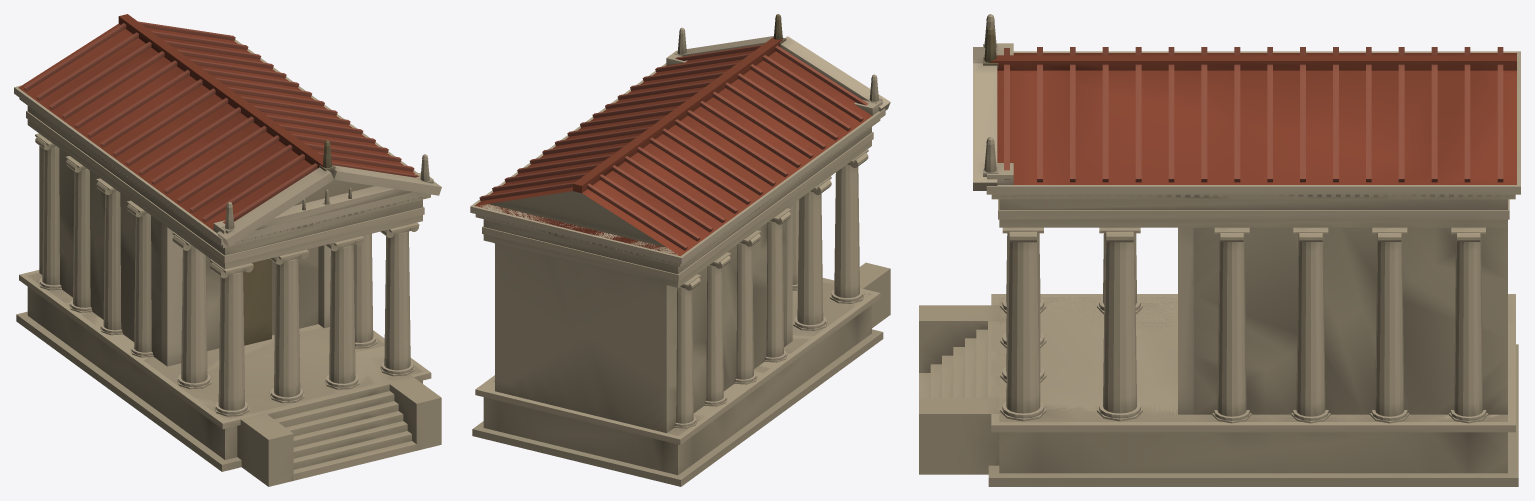
Rendered from temple-of-portunus.glb.
3 renders of one model, left to right at view 1: azimuth 30°, elevation 25°; view 2: azimuth 150°, elevation 25°; view 3: azimuth 270°, elevation 25°, orthographic. The views are drawn at different scales.
Visible parts, largest first — view 1: p2_roof, p1_columns, p0_podium; view 2: p2_roof, p1_columns, p0_podium; view 3: p2_roof, p1_columns, p0_podium.
Part boxes in pixels (left/top/right/bottom): p2_roof: left=14, top=14, right=441, bottom=269; p1_columns: left=35, top=133, right=419, bottom=416; p0_podium: left=16, top=270, right=441, bottom=486; p2_roof: left=470, top=14, right=890, bottom=287; p1_columns: left=494, top=149, right=868, bottom=433; p0_podium: left=472, top=262, right=890, bottom=486; p2_roof: left=973, top=14, right=1520, bottom=227; p1_columns: left=1000, top=227, right=1507, bottom=423; p0_podium: left=919, top=294, right=1518, bottom=486.
Bounding box in the file's own units: 11.98 × 16.21 × 22.48.
